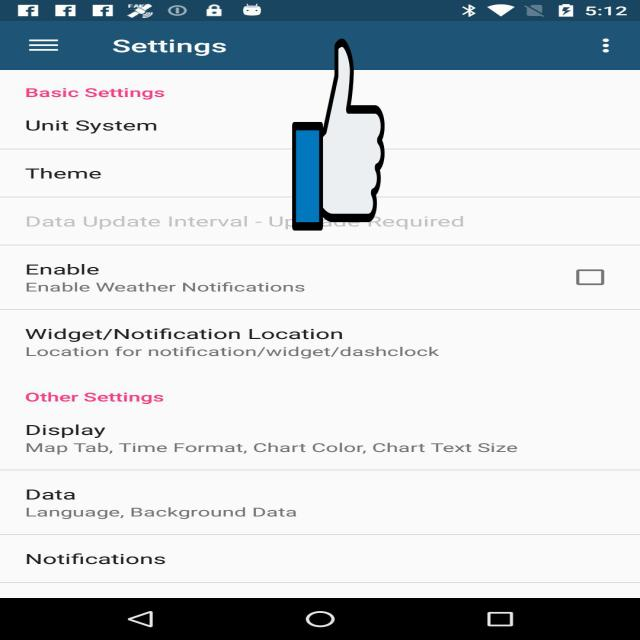privacy zuckering: (292, 34, 385, 235)
